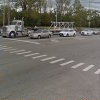crosswalk: (0, 44, 100, 74)
